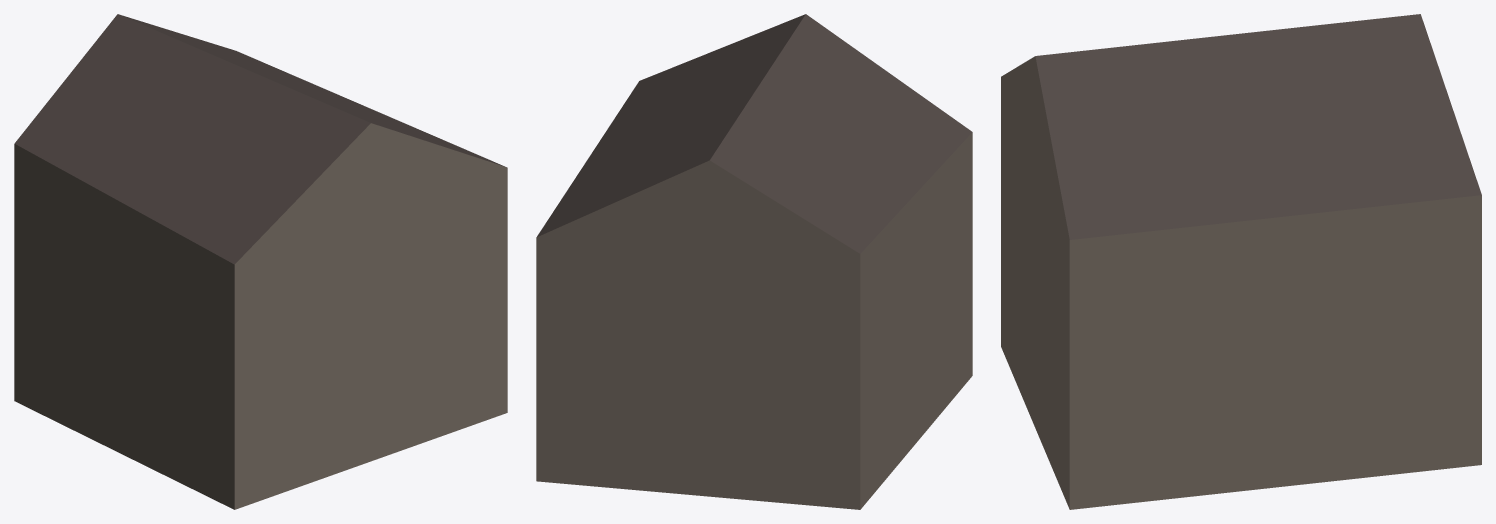
3 renders of one model, left to right at view 1: azimuth 30°, elevation 25°; view 2: azimuth 150°, elevation 25°; view 3: azimuth 270°, elevation 25°, orthographic. The views are drawn at different scales.
Visible parts, largest first — view 1: HP-w1198840827; view 2: HP-w1198840827; view 3: HP-w1198840827.
Part boxes in pixels (x1,y1,x2,y2): HP-w1198840827: [14, 14, 507, 509]; HP-w1198840827: [536, 14, 972, 509]; HP-w1198840827: [1001, 14, 1481, 509].
Bounding box in the file's own units: 9.16 × 8.28 × 9.69.
